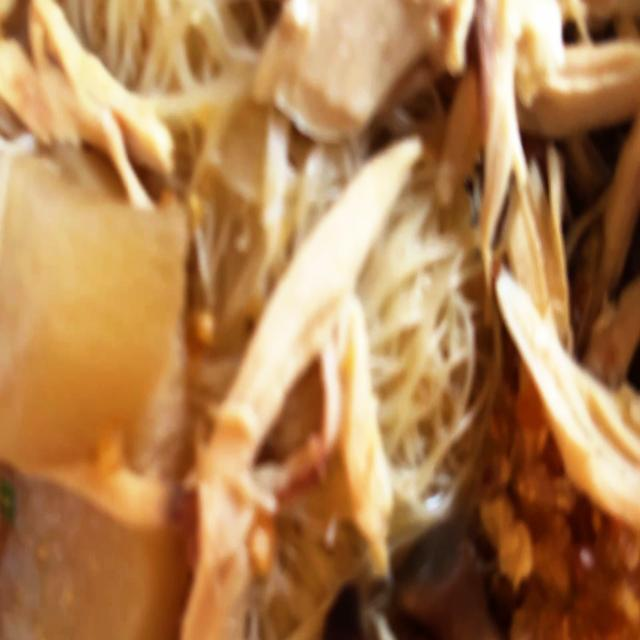chicken_shredded: (485, 0, 640, 515), (222, 134, 417, 466), (15, 5, 153, 172), (259, 0, 420, 135)
daikon_radish: (0, 177, 182, 442), (15, 453, 184, 640)
noodle: (0, 0, 640, 640)
